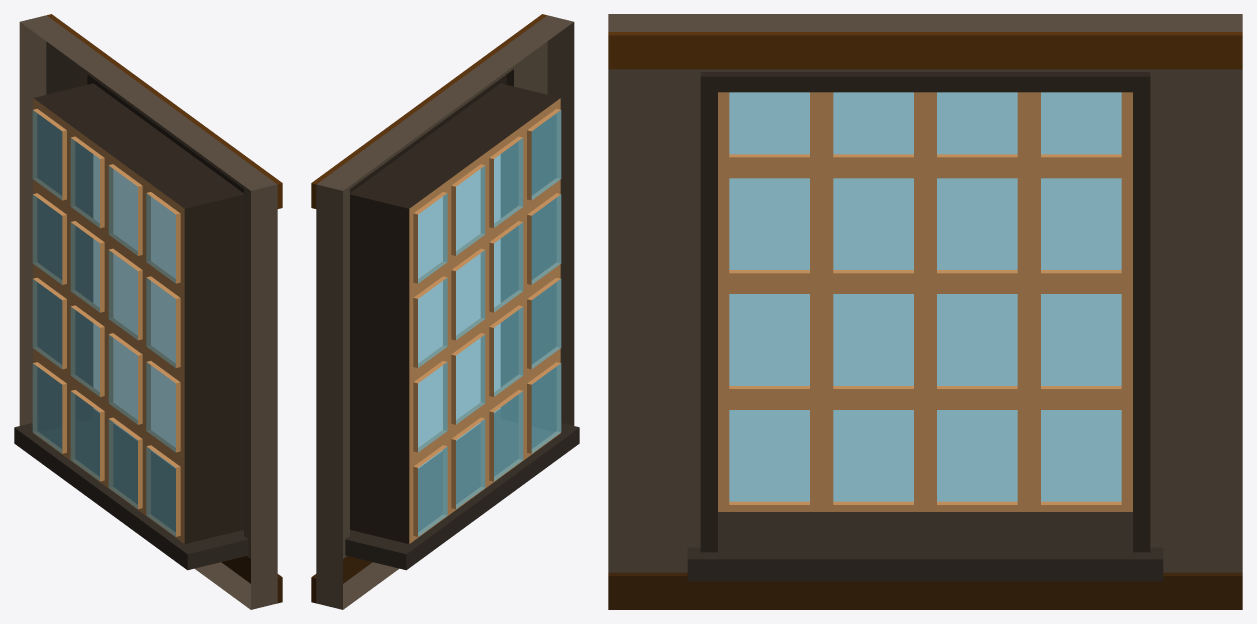
The model's file is Wall_2.fbx.
3 renders of one model, left to right at view 1: azimuth 30°, elevation 25°; view 2: azimuth 150°, elevation 25°; view 3: azimuth 270°, elevation 25°, orthographic. The views are drawn at different scales.
Visible parts, largest first — view 1: Wall_2; view 2: Wall_2; view 3: Wall_2.
Boxes of the visible parts, box(x1,y1,x2,y2) form: Wall_2: box(14, 14, 282, 609); Wall_2: box(311, 14, 579, 609); Wall_2: box(608, 14, 1242, 609).
Bounding box in the file's own units: 0.5901 × 3 × 3.
